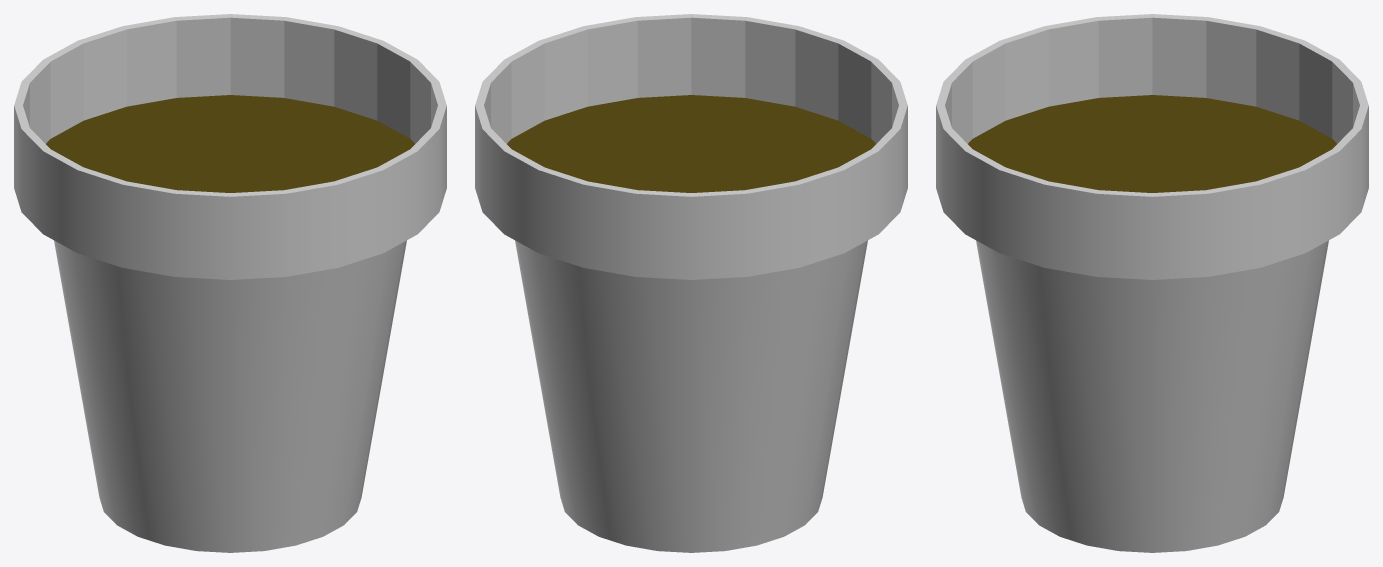
File: Maceta1.fbx
3 renders of one model, left to right at view 1: azimuth 30°, elevation 25°; view 2: azimuth 150°, elevation 25°; view 3: azimuth 270°, elevation 25°, orthographic.
Parts seen in each view (by area): view 1: Model; view 2: Model; view 3: Model.
Boxes of the visible parts, left/top/right/bottom form: Model: left=14, top=14, right=446, bottom=552; Model: left=475, top=14, right=907, bottom=552; Model: left=936, top=14, right=1368, bottom=552.
Bounding box in the file's own units: 0.66 × 0.66 × 0.66.
